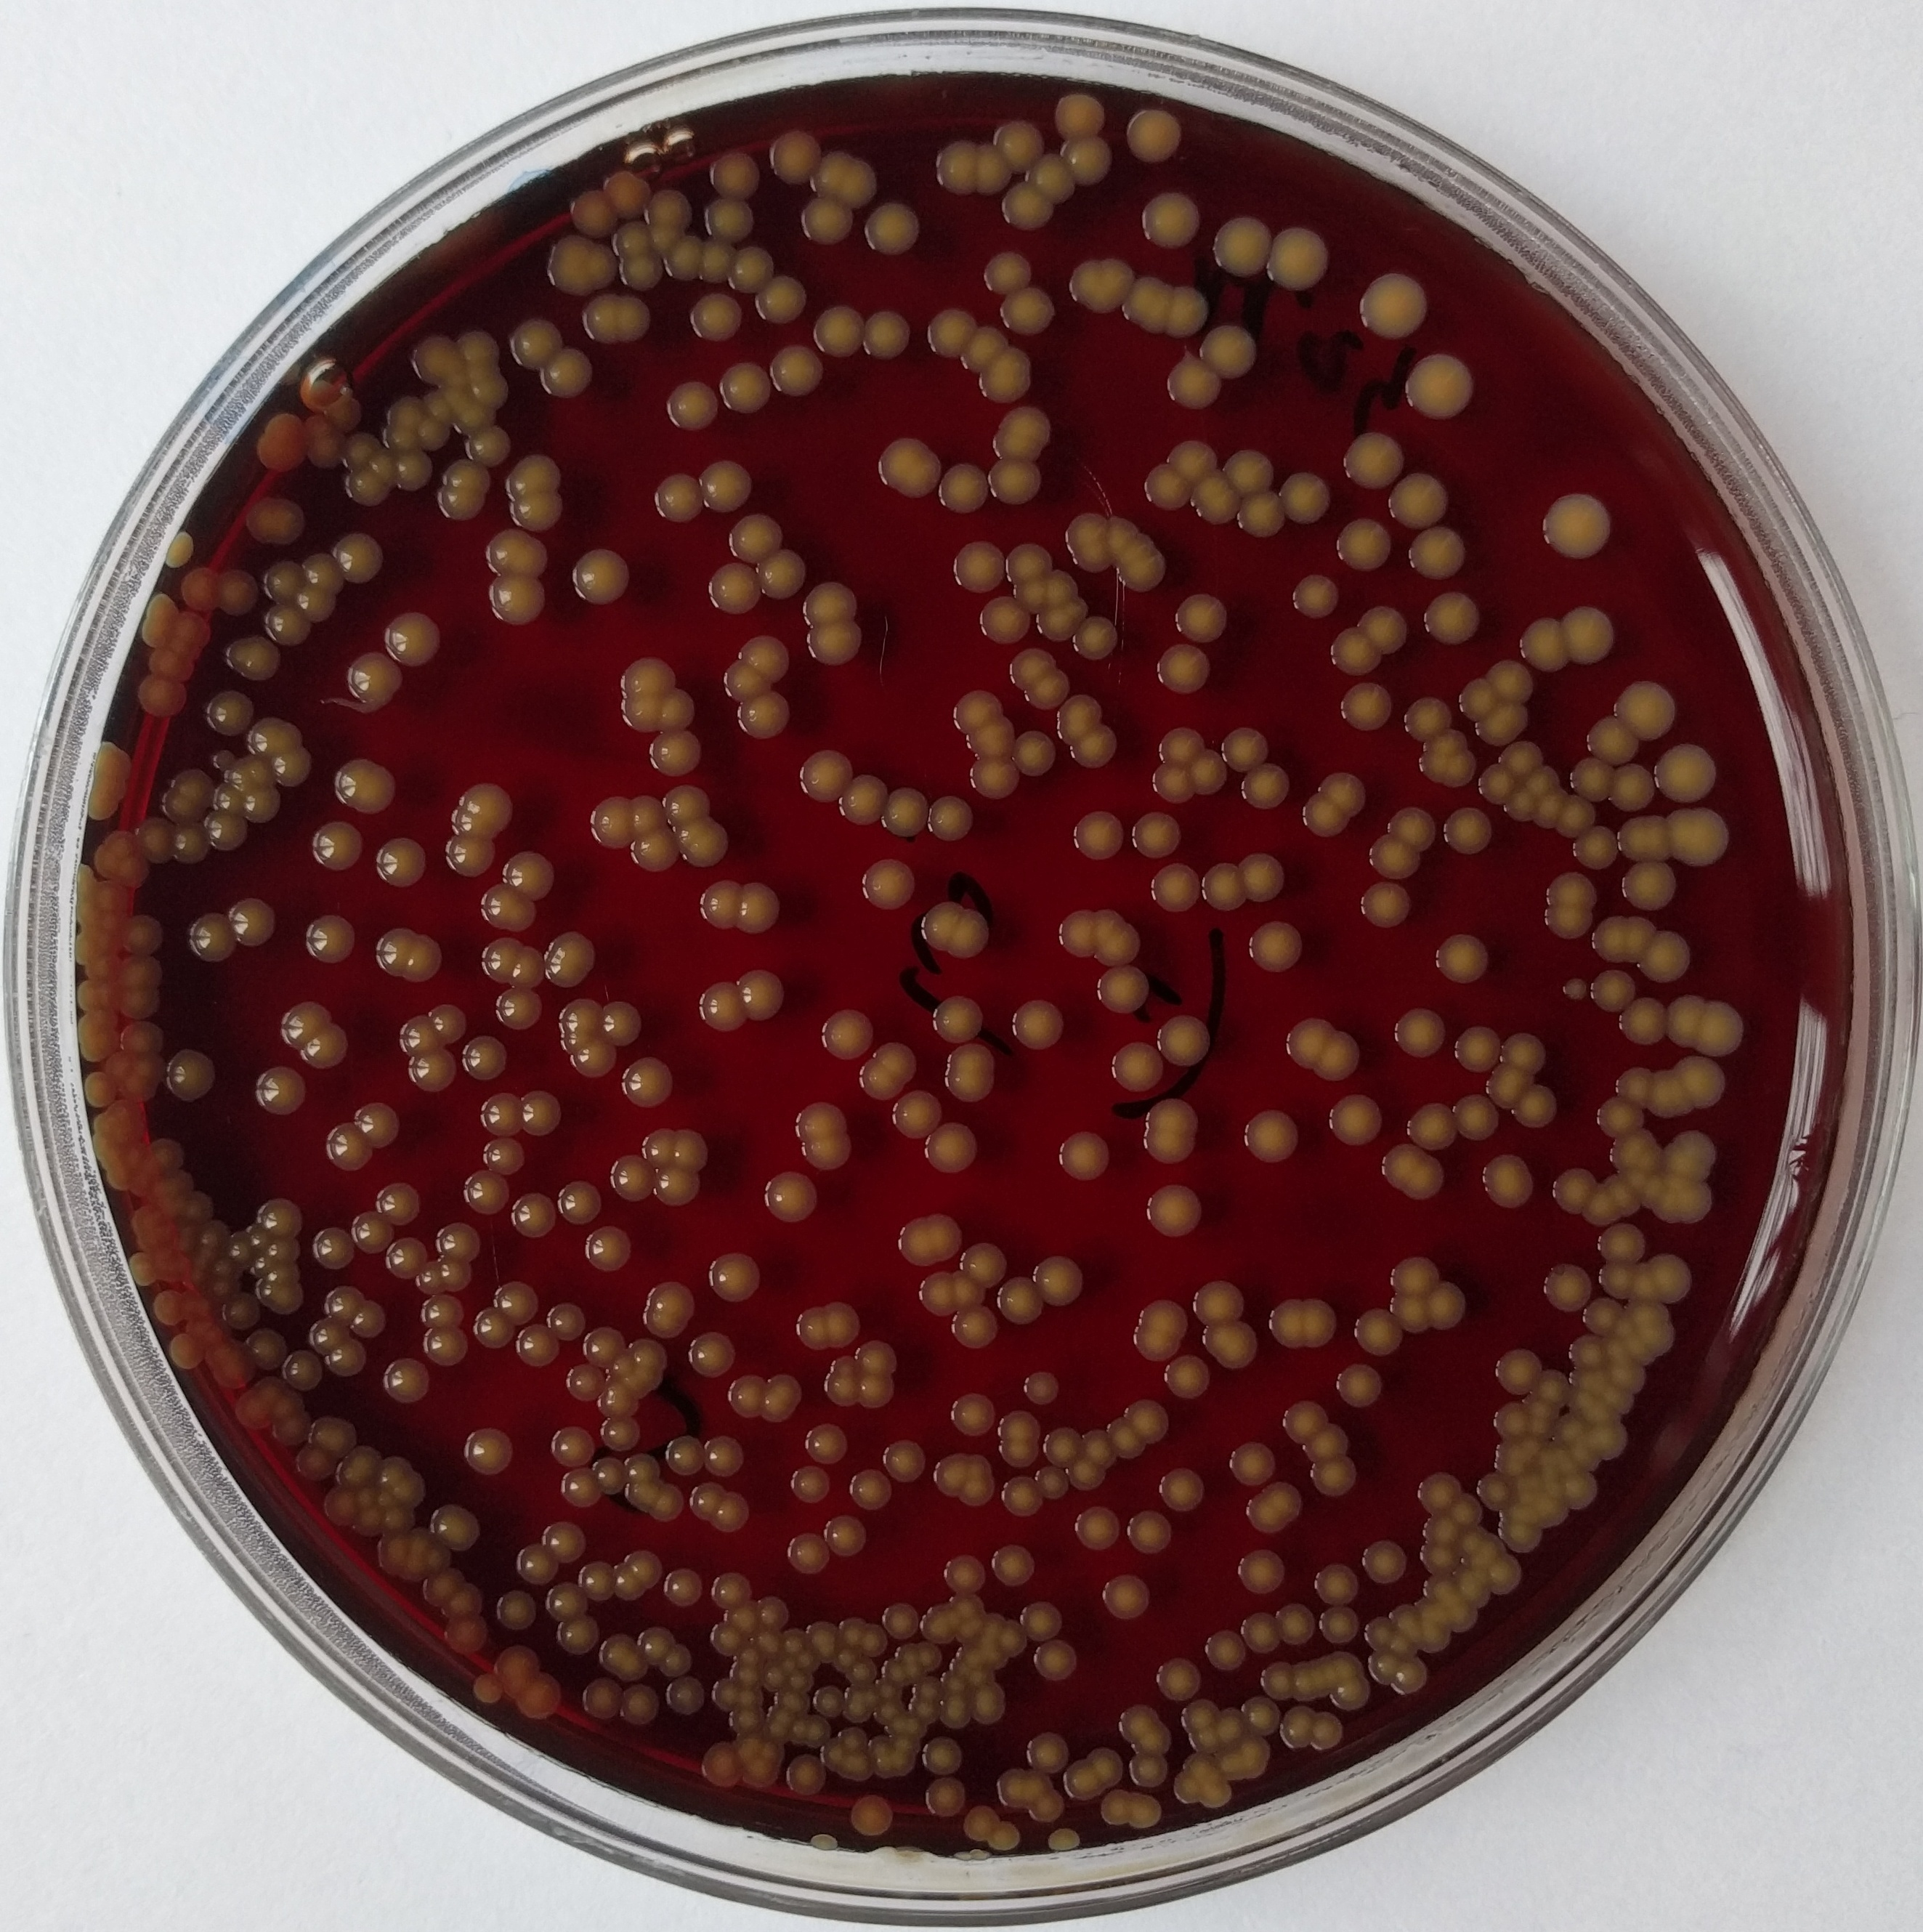sp21: (1233, 1548, 1293, 1657), (1534, 486, 1620, 562), (1354, 269, 1440, 343), (1404, 347, 1481, 424), (322, 646, 409, 715), (1606, 671, 1682, 741), (1654, 736, 1724, 810), (541, 232, 622, 296), (872, 437, 944, 502), (1268, 220, 1330, 294), (807, 150, 880, 211), (1139, 187, 1205, 255), (984, 405, 1058, 465), (1666, 807, 1733, 872), (1212, 210, 1273, 280), (1382, 470, 1453, 532), (1340, 428, 1407, 491), (333, 756, 400, 819), (1197, 322, 1268, 382), (854, 856, 926, 914), (1071, 257, 1138, 319), (1132, 1296, 1194, 1363), (1241, 1108, 1310, 1168), (1164, 347, 1227, 410), (1405, 521, 1469, 585), (1661, 1124, 1724, 1187), (768, 338, 829, 403), (1148, 639, 1217, 697), (479, 527, 551, 581), (1124, 104, 1187, 166), (731, 969, 794, 1030), (382, 608, 446, 669), (1053, 130, 1118, 190), (859, 199, 926, 257), (1331, 516, 1398, 574), (1199, 1316, 1266, 1374), (944, 1039, 1002, 1106), (979, 345, 1043, 405), (1477, 1150, 1537, 1213), (1051, 1127, 1115, 1187), (1143, 1182, 1206, 1242), (241, 491, 308, 548), (993, 285, 1064, 338), (932, 458, 993, 518), (639, 1280, 699, 1342), (164, 1044, 224, 1106), (569, 546, 630, 606), (685, 287, 747, 347), (1324, 1088, 1388, 1147), (1153, 1013, 1217, 1071), (1007, 997, 1072, 1053), (1618, 856, 1678, 916), (1247, 914, 1307, 974), (1278, 1014, 1340, 1073), (486, 569, 548, 627), (1560, 602, 1617, 666), (757, 1169, 822, 1224), (791, 748, 856, 803), (1122, 275, 1180, 335), (1425, 590, 1485, 648), (1236, 757, 1296, 815), (252, 1064, 312, 1122), (923, 1118, 983, 1176), (539, 930, 599, 988), (697, 454, 754, 516), (717, 358, 773, 419), (1021, 150, 1085, 204), (1356, 879, 1419, 933), (1347, 1305, 1411, 1360), (997, 180, 1062, 232), (704, 1252, 770, 1305), (815, 1007, 880, 1060), (474, 884, 541, 935), (990, 116, 1048, 174), (1233, 483, 1291, 541), (1391, 1006, 1449, 1064), (303, 911, 361, 969), (537, 345, 595, 403), (798, 194, 858, 250), (1432, 930, 1492, 986), (370, 837, 430, 893), (734, 687, 794, 743), (1335, 682, 1396, 736), (379, 1358, 440, 1412), (1094, 962, 1155, 1016), (951, 539, 1013, 594), (1472, 694, 1536, 747), (1245, 1485, 1308, 1537), (1118, 532, 1171, 595), (662, 380, 726, 433), (671, 819, 736, 870), (1278, 470, 1335, 528), (1030, 1256, 1088, 1312), (254, 416, 312, 472), (764, 132, 824, 187), (812, 306, 872, 361), (1328, 623, 1388, 678), (1175, 590, 1234, 645), (1583, 715, 1643, 770), (1146, 861, 1206, 916), (1673, 1051, 1728, 1111), (618, 1055, 678, 1110), (798, 581, 866, 629), (1639, 923, 1692, 984), (930, 995, 991, 1048), (224, 632, 287, 683), (1566, 817, 1622, 874), (736, 634, 792, 690), (225, 893, 282, 949), (1615, 810, 1673, 865), (1539, 1259, 1597, 1314), (350, 1099, 409, 1154), (835, 773, 893, 828), (981, 247, 1041, 299), (1108, 1043, 1168, 1095), (426, 1502, 488, 1553), (104, 826, 153, 889), (1618, 993, 1673, 1050), (1312, 1029, 1367, 1085), (491, 1643, 548, 1698), (500, 849, 556, 903), (507, 313, 562, 370), (859, 308, 917, 361), (1518, 615, 1571, 673), (1356, 597, 1409, 655), (879, 784, 932, 842), (752, 549, 810, 602), (333, 528, 386, 586), (565, 187, 623, 240), (803, 620, 866, 667), (1448, 1088, 1502, 1143), (555, 999, 609, 1053), (600, 167, 655, 222), (1602, 761, 1659, 814), (1440, 803, 1497, 856), (1483, 1058, 1539, 1111), (888, 1088, 944, 1141), (1067, 611, 1124, 664), (706, 562, 763, 615), (310, 821, 366, 874), (935, 139, 986, 197), (1481, 655, 1539, 706), (1124, 1511, 1182, 1562), (942, 905, 993, 963), (1034, 592, 1092, 643), (1696, 997, 1745, 1057), (509, 1675, 569, 1724), (599, 1636, 659, 1685), (1189, 1277, 1249, 1326), (1213, 1733, 1275, 1781), (620, 655, 682, 703), (502, 451, 564, 498), (1168, 280, 1213, 343), (456, 780, 519, 826), (926, 303, 979, 358), (1238, 852, 1293, 905), (687, 1328, 741, 1381), (320, 1120, 375, 1173), (921, 789, 976, 842), (183, 909, 236, 963), (754, 273, 810, 324), (512, 1321, 569, 1372), (988, 458, 1046, 507), (1192, 470, 1241, 528), (1286, 569, 1344, 618), (461, 1425, 519, 1474), (372, 1182, 430, 1231), (588, 794, 637, 852), (726, 512, 784, 562), (970, 139, 1018, 199), (1365, 831, 1425, 879), (1153, 722, 1213, 770), (648, 729, 708, 777), (1296, 1293, 1342, 1354), (974, 599, 1035, 645), (1384, 800, 1437, 852), (1131, 810, 1183, 863), (1317, 766, 1370, 819), (1157, 1465, 1210, 1518), (606, 1154, 659, 1206), (1067, 511, 1111, 574), (954, 321, 1009, 372), (1495, 736, 1550, 787), (1492, 1346, 1546, 1397), (993, 1275, 1048, 1326), (1072, 808, 1127, 859), (652, 472, 706, 523), (703, 192, 754, 247), (1404, 1101, 1460, 1150), (1307, 1451, 1363, 1501), (1160, 1353, 1217, 1402), (442, 831, 498, 881), (1645, 1064, 1692, 1122), (490, 983, 548, 1030), (726, 245, 778, 296), (1120, 1393, 1171, 1446), (460, 1166, 512, 1217), (697, 983, 750, 1034), (1550, 1162, 1599, 1217), (1099, 1571, 1153, 1620), (986, 1541, 1041, 1590), (535, 1520, 590, 1569), (942, 1390, 997, 1439), (331, 1446, 386, 1495), (278, 1002, 333, 1051), (1541, 898, 1597, 946), (1153, 1655, 1210, 1703), (780, 1529, 836, 1576), (609, 217, 666, 264), (1652, 1247, 1698, 1305), (947, 687, 1006, 733), (247, 712, 305, 757), (1386, 1254, 1446, 1298), (1224, 447, 1275, 498), (1197, 859, 1249, 911), (1182, 747, 1233, 798), (696, 1740, 747, 1791), (410, 1043, 461, 1094), (370, 926, 421, 977), (615, 689, 666, 740), (1562, 754, 1615, 803), (1585, 965, 1638, 1014), (1453, 1023, 1506, 1073), (618, 1678, 667, 1731), (1074, 1502, 1124, 1555), (757, 1372, 807, 1425), (893, 1217, 942, 1270), (491, 1277, 544, 1326), (581, 1224, 634, 1273), (303, 1023, 356, 1073), (204, 689, 257, 738), (708, 153, 763, 201), (1217, 724, 1271, 771), (1312, 1560, 1367, 1608), (1101, 1414, 1148, 1469), (958, 1242, 1013, 1289), (306, 1414, 361, 1462), (1055, 694, 1102, 748), (410, 336, 465, 384), (639, 185, 694, 232), (1051, 92, 1108, 137), (1425, 1277, 1470, 1333), (917, 902, 963, 958), (565, 1037, 623, 1081), (1087, 919, 1145, 963), (507, 488, 565, 532), (792, 1101, 852, 1143), (958, 719, 1018, 761), (1168, 439, 1219, 488), (1404, 692, 1453, 743), (1402, 1155, 1453, 1205), (947, 1303, 998, 1353), (458, 1030, 507, 1081), (597, 997, 646, 1048), (1067, 724, 1118, 773), (923, 1775, 976, 1823), (433, 1220, 486, 1268), (868, 1039, 921, 1087), (1594, 1220, 1648, 1266), (1333, 1361, 1388, 1407), (1028, 1638, 1083, 1684), (845, 1793, 900, 1839), (923, 1210, 969, 1265), (738, 881, 784, 935), (660, 785, 715, 831), (720, 660, 775, 706), (1583, 1420, 1639, 1464), (442, 1615, 498, 1659), (967, 756, 1023, 800), (132, 671, 188, 715), (1592, 1095, 1650, 1138), (1409, 1471, 1467, 1513), (421, 1326, 479, 1368), (701, 877, 743, 935), (655, 1161, 704, 1210), (1500, 1029, 1551, 1076), (1229, 1441, 1280, 1488), (1358, 1537, 1409, 1585), (1021, 1729, 1072, 1777), (917, 1733, 969, 1781), (782, 1754, 833, 1802), (1016, 1596, 1067, 1643), (1013, 727, 1060, 778), (1138, 1094, 1197, 1134), (1375, 1143, 1428, 1189), (1509, 1085, 1562, 1131), (821, 1513, 873, 1559), (1002, 539, 1055, 585), (660, 231, 706, 284), (1544, 866, 1599, 911), (1300, 794, 1354, 838), (1058, 909, 1102, 963), (611, 291, 655, 345), (798, 1131, 856, 1171), (1145, 463, 1194, 511), (1613, 1062, 1661, 1111), (1608, 1125, 1655, 1175), (660, 1567, 710, 1615), (699, 1430, 748, 1478), (278, 1347, 328, 1395), (555, 1178, 602, 1228), (465, 424, 514, 472), (1388, 1287, 1433, 1338), (879, 1437, 930, 1483), (801, 1421, 852, 1467), (509, 1192, 560, 1238), (475, 1090, 527, 1136), (264, 602, 315, 648), (553, 1615, 606, 1659), (542, 1582, 595, 1626), (694, 236, 738, 289), (1666, 988, 1705, 1048), (1004, 646, 1058, 689), (578, 291, 620, 345), (1268, 1296, 1308, 1353), (618, 1546, 666, 1594), (382, 1233, 430, 1280), (477, 935, 525, 983), (299, 549, 347, 597), (1303, 1420, 1352, 1465), (400, 935, 446, 984), (130, 815, 176, 865), (203, 807, 252, 852), (215, 567, 261, 616), (1275, 1398, 1326, 1442), (1277, 1701, 1319, 1754), (490, 1587, 542, 1629), (1138, 1134, 1208, 1166), (615, 250, 667, 292), (1493, 1518, 1548, 1559), (1451, 673, 1499, 719), (970, 1678, 1016, 1726), (998, 1474, 1046, 1520), (819, 1300, 866, 1346), (660, 1434, 708, 1479), (917, 1272, 963, 1319), (424, 1002, 472, 1048), (579, 1675, 623, 1724), (512, 1541, 562, 1585), (724, 1372, 768, 1421), (255, 1194, 305, 1238), (310, 1228, 359, 1272), (653, 683, 697, 733), (319, 1286, 370, 1328), (393, 1013, 444, 1055), (1025, 667, 1076, 710), (1620, 911, 1657, 969), (1590, 914, 1631, 967), (1058, 1449, 1111, 1490), (255, 1279, 310, 1317), (446, 805, 500, 844), (1238, 1694, 1284, 1740), (787, 1460, 833, 1506), (710, 1492, 755, 1537), (347, 1298, 391, 1346), (519, 1088, 564, 1136), (93, 1102, 150, 1139), (1150, 761, 1199, 803), (1111, 1701, 1160, 1744), (1039, 1425, 1088, 1467), (845, 1467, 895, 1509), (241, 1330, 291, 1372), (114, 914, 164, 956), (167, 768, 217, 810), (262, 560, 305, 609), (120, 1018, 171, 1058), (435, 484, 488, 523), (1530, 780, 1567, 835), (1595, 1252, 1639, 1298), (372, 1530, 416, 1576), (564, 1360, 609, 1404), (350, 1210, 396, 1254), (243, 784, 287, 830), (1273, 1601, 1321, 1643), (1074, 1425, 1122, 1467), (548, 1425, 595, 1467), (1314, 1604, 1363, 1645), (792, 1309, 833, 1358), (595, 1384, 645, 1425), (479, 1136, 528, 1176), (632, 828, 682, 868), (856, 1060, 907, 1099), (1604, 1169, 1641, 1222), (851, 1338, 903, 1375), (1474, 763, 1518, 807), (942, 1552, 988, 1594), (81, 1067, 123, 1113), (421, 1566, 468, 1606), (852, 1372, 900, 1412), (579, 1324, 627, 1365), (225, 754, 273, 794), (593, 1416, 648, 1451), (1557, 789, 1595, 838), (1636, 1319, 1685, 1358), (178, 564, 217, 613), (1580, 1293, 1624, 1335), (1472, 1471, 1516, 1513), (1453, 1566, 1497, 1608), (1205, 1633, 1249, 1675), (1256, 1657, 1300, 1700), (803, 1620, 847, 1663), (666, 1675, 710, 1717), (632, 1624, 676, 1666), (947, 1270, 991, 1312), (588, 1456, 632, 1499), (544, 1300, 588, 1342), (1102, 512, 1138, 565), (113, 953, 166, 988), (294, 583, 338, 625), (440, 460, 493, 495), (1490, 1398, 1530, 1444), (1307, 1707, 1347, 1752), (708, 1571, 754, 1611), (1020, 1367, 1065, 1407), (472, 1309, 518, 1349), (671, 1127, 711, 1173), (639, 1125, 680, 1171), (507, 944, 548, 990), (1500, 777, 1539, 824), (1583, 1178, 1622, 1226), (1303, 1655, 1342, 1703), (930, 1451, 969, 1499), (419, 1293, 467, 1331), (1090, 903, 1129, 951), (1125, 1721, 1175, 1758), (322, 1342, 372, 1379), (146, 650, 195, 687), (1440, 1592, 1483, 1634), (1129, 1751, 1171, 1793), (1197, 1773, 1240, 1816), (1085, 1745, 1127, 1788), (232, 1391, 275, 1434), (273, 745, 315, 787), (1389, 1655, 1433, 1696), (961, 1802, 1002, 1846), (652, 1640, 696, 1680), (578, 1560, 618, 1604), (453, 328, 497, 368), (914, 1603, 960, 1641), (558, 1469, 604, 1508), (116, 981, 162, 1020), (343, 468, 389, 507), (438, 1583, 486, 1620), (453, 400, 500, 437), (997, 1407, 1046, 1442), (1530, 1363, 1571, 1405), (1064, 1761, 1104, 1803), (1032, 1462, 1072, 1504), (391, 1472, 433, 1513), (877, 1601, 921, 1640), (620, 1453, 664, 1492), (146, 1138, 190, 1176), (306, 430, 350, 468), (343, 428, 382, 472), (320, 393, 365, 431), (1418, 1537, 1463, 1574), (291, 1444, 336, 1481), (306, 1317, 352, 1354), (171, 819, 208, 865), (396, 449, 433, 495), (1446, 743, 1481, 791), (208, 1354, 257, 1388), (92, 738, 132, 778), (1560, 1471, 1602, 1509), (1328, 1645, 1367, 1687), (958, 1472, 1000, 1511), (685, 1481, 727, 1520), (630, 793, 669, 835), (472, 372, 514, 410), (646, 218, 689, 257), (1521, 759, 1566, 796), (1624, 1293, 1668, 1330), (822, 1368, 859, 1412), (160, 787, 204, 824), (167, 611, 213, 646), (1421, 1513, 1467, 1548), (1486, 1557, 1527, 1596), (1178, 1694, 1219, 1733), (222, 1231, 261, 1272), (387, 391, 428, 430), (93, 879, 136, 916), (1425, 724, 1467, 761), (754, 1590, 791, 1633), (220, 1293, 262, 1330), (162, 530, 199, 572), (1331, 1675, 1375, 1710), (1127, 1789, 1162, 1833), (130, 1226, 176, 1259), (1567, 1333, 1606, 1372), (1363, 1648, 1402, 1687), (1013, 572, 1051, 611), (324, 1488, 361, 1529), (412, 1256, 449, 1296), (437, 1259, 477, 1296), (1448, 1490, 1483, 1532), (722, 1603, 764, 1638), (467, 1673, 509, 1708), (375, 1456, 417, 1492), (166, 1333, 208, 1368), (261, 1233, 303, 1268), (623, 1479, 669, 1511), (1183, 1721, 1222, 1758), (153, 1291, 190, 1330), (1391, 1604, 1426, 1645), (1097, 1786, 1132, 1826), (838, 1749, 879, 1784), (648, 1486, 689, 1522), (417, 412, 453, 453), (1363, 1611, 1396, 1654), (627, 1337, 671, 1368), (269, 1412, 313, 1444), (204, 1337, 248, 1368), (1421, 1571, 1458, 1608), (419, 1543, 456, 1580), (250, 1374, 287, 1411), (92, 768, 129, 805), (1212, 1705, 1247, 1744), (991, 1768, 1027, 1807), (986, 1818, 1025, 1853), (747, 1627, 785, 1663), (195, 1217, 234, 1252), (1416, 745, 1449, 785), (997, 1617, 1030, 1657), (819, 1737, 851, 1779), (372, 446, 403, 488), (1028, 1788, 1064, 1825), (808, 1684, 845, 1719), (706, 1619, 743, 1654), (104, 1157, 141, 1192), (1044, 569, 1079, 606), (81, 789, 118, 824), (1180, 1751, 1219, 1784), (946, 1587, 984, 1620), (998, 1434, 1037, 1467), (380, 1504, 419, 1537), (1610, 1360, 1650, 1391), (708, 1671, 740, 1712), (1287, 1657, 1315, 1701), (912, 1640, 947, 1675), (1569, 1383, 1602, 1420), (1171, 1768, 1205, 1805), (939, 1694, 972, 1731), (743, 1756, 780, 1789), (727, 1703, 764, 1737), (771, 1685, 808, 1719), (384, 421, 421, 454), (268, 1391, 308, 1421), (1627, 1270, 1661, 1305), (833, 1615, 868, 1648), (125, 1250, 158, 1286), (211, 782, 247, 815), (951, 1610, 988, 1641), (858, 1622, 889, 1659), (727, 1678, 764, 1710), (419, 389, 456, 421), (1599, 1384, 1638, 1414), (842, 1657, 880, 1687), (604, 1351, 643, 1381), (150, 1171, 195, 1196), (1551, 1414, 1585, 1448), (92, 845, 125, 879), (1495, 1444, 1527, 1479), (155, 1254, 190, 1286), (831, 1641, 866, 1673), (886, 1747, 921, 1779), (611, 1574, 648, 1604), (129, 1205, 167, 1233), (83, 951, 116, 983), (1558, 972, 1590, 1006), (909, 1694, 942, 1726), (803, 1715, 835, 1749), (356, 1501, 387, 1534), (104, 1048, 136, 1081), (1043, 1826, 1085, 1851), (266, 1261, 305, 1287), (77, 977, 100, 1021), (1539, 1497, 1569, 1530), (81, 1032, 114, 1062), (872, 1696, 905, 1726), (960, 1451, 993, 1481), (733, 1737, 768, 1765), (880, 1659, 912, 1689), (761, 1663, 791, 1694), (125, 1078, 158, 1106), (181, 1192, 215, 1220), (824, 1354, 861, 1379), (208, 1273, 245, 1298), (937, 1668, 967, 1698), (777, 1627, 807, 1657), (146, 592, 174, 623), (898, 1659, 926, 1691), (239, 1222, 271, 1250), (914, 1677, 947, 1703), (208, 1254, 241, 1280), (902, 1712, 930, 1742), (785, 1666, 814, 1696), (891, 1641, 923, 1668), (757, 1737, 784, 1768), (764, 1703, 796, 1729), (733, 1645, 764, 1671), (141, 620, 169, 648), (836, 1726, 865, 1754), (844, 1696, 872, 1724), (729, 1659, 759, 1685), (1539, 1448, 1574, 1469), (70, 932, 92, 967), (868, 1731, 895, 1759), (784, 1715, 812, 1742), (777, 1650, 803, 1678), (352, 1485, 380, 1511), (74, 859, 93, 896), (155, 1192, 181, 1219), (872, 1752, 896, 1779), (248, 1250, 273, 1277), (92, 1138, 125, 1157), (79, 1016, 114, 1034), (763, 1712, 785, 1738), (210, 747, 236, 770), (796, 1648, 824, 1670), (1529, 1412, 1551, 1437), (1502, 1508, 1541, 1522), (90, 930, 114, 951), (1529, 1400, 1557, 1418), (1514, 1471, 1537, 1492), (176, 1226, 195, 1250), (102, 981, 114, 1018), (1541, 1465, 1562, 1486), (79, 898, 95, 926), (949, 1657, 970, 1678), (136, 1055, 158, 1074), (1518, 1490, 1543, 1508), (190, 1268, 210, 1287), (194, 1250, 210, 1270), (1541, 1481, 1562, 1493)
